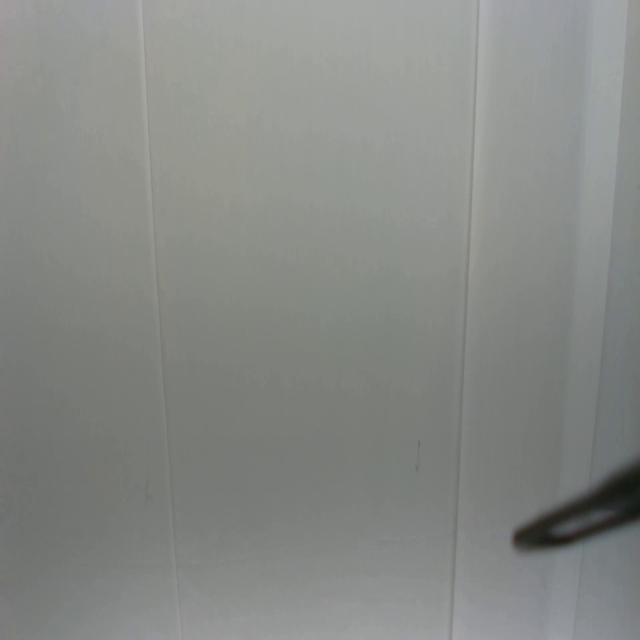crease: (138, 0, 186, 640), (567, 0, 630, 466), (448, 0, 480, 639), (557, 549, 586, 640)
